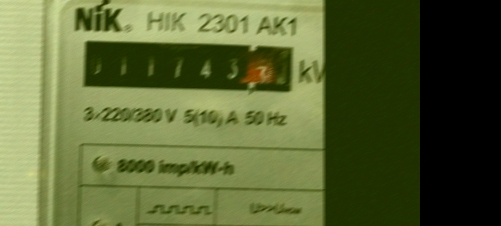0: (88, 50, 102, 77)
1: (115, 50, 129, 78), (143, 51, 156, 79)
3: (224, 55, 238, 82), (253, 65, 268, 86)
4: (198, 56, 212, 81)
7: (170, 54, 184, 79)
screen: (75, 36, 301, 100)
